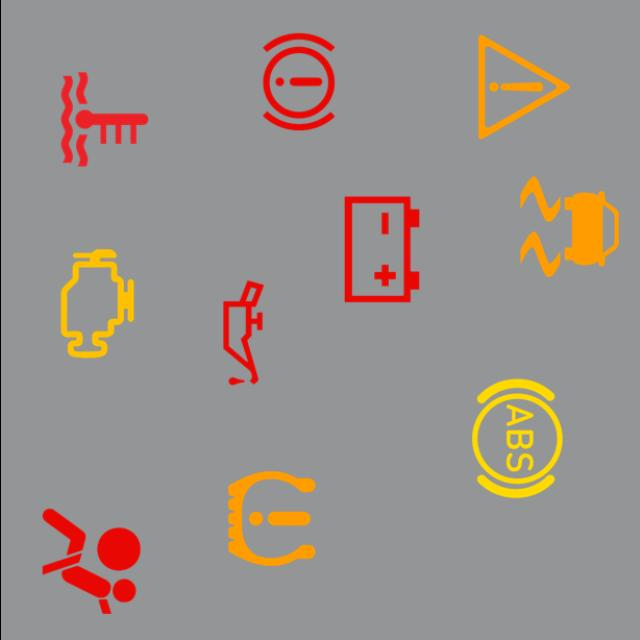Anti Lock Braking System: (452, 373, 582, 504)
Braking System Issue: (232, 17, 362, 147)
Charging System Issue: (316, 184, 446, 314)
Check Engine: (32, 239, 162, 369)
Electronic Stability Problem -ESP-: (504, 162, 634, 292)
Engine Overheating Warning Light: (38, 54, 168, 184)
Low Engine Oil Warning Light: (178, 268, 308, 398)
Low Tire Pressure Warning Light: (206, 454, 336, 584)
Master warning light: (458, 22, 588, 152)
SRS-Airbag: (25, 496, 155, 627)
